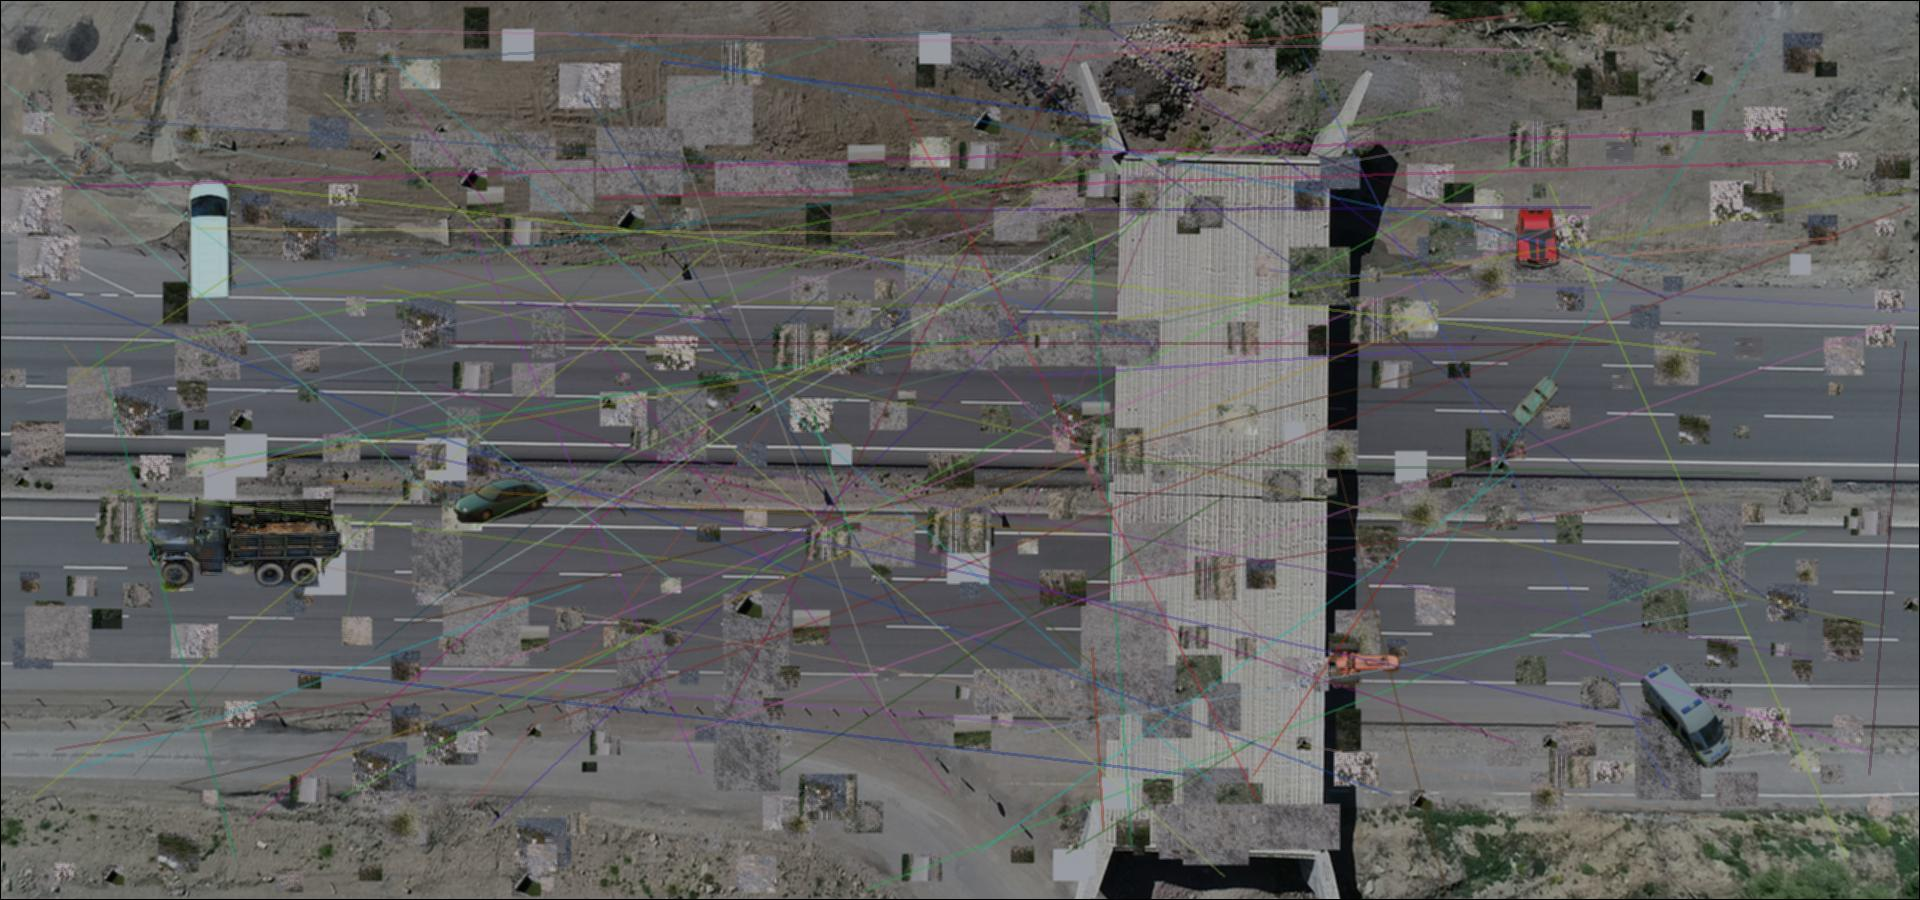arac: (146, 491, 345, 598), (1641, 662, 1731, 768), (182, 178, 236, 300), (454, 474, 549, 523), (1329, 640, 1402, 688), (1513, 207, 1562, 272), (1511, 377, 1559, 429)
